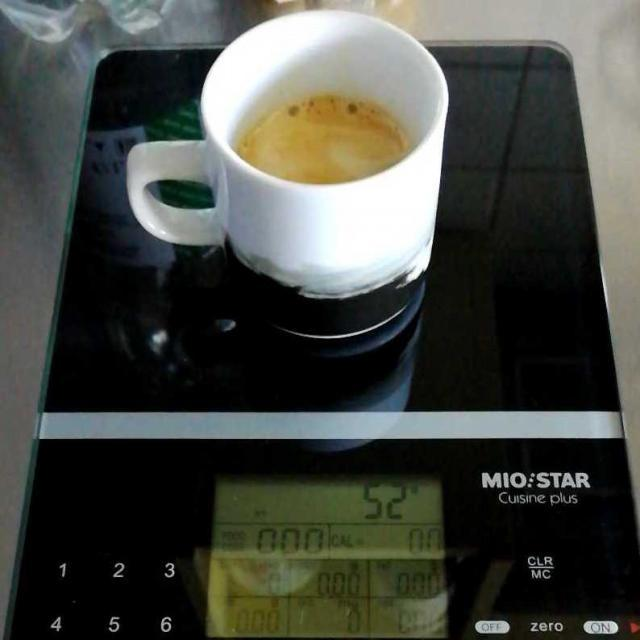drink: (241, 93, 408, 180)
